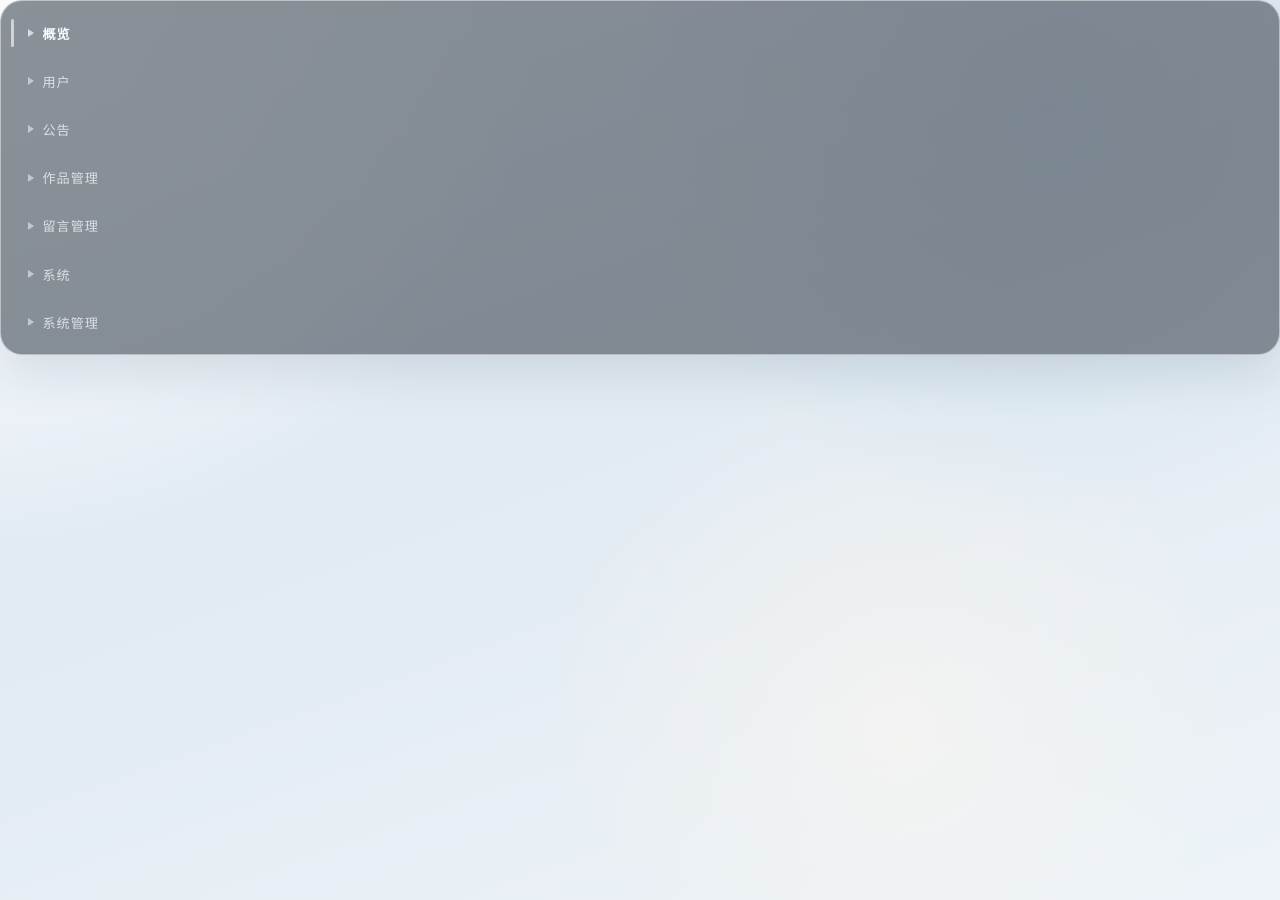
Test: AppSidebar 分组折叠 › 单项组同样可以折叠（概览 / 公告 / 留言管理）
The image size is (1280, 900).
Click the button with class "app-sidebar__group-toggle" showing "公告".
click(31, 129)  # box [17, 113, 1253, 146]
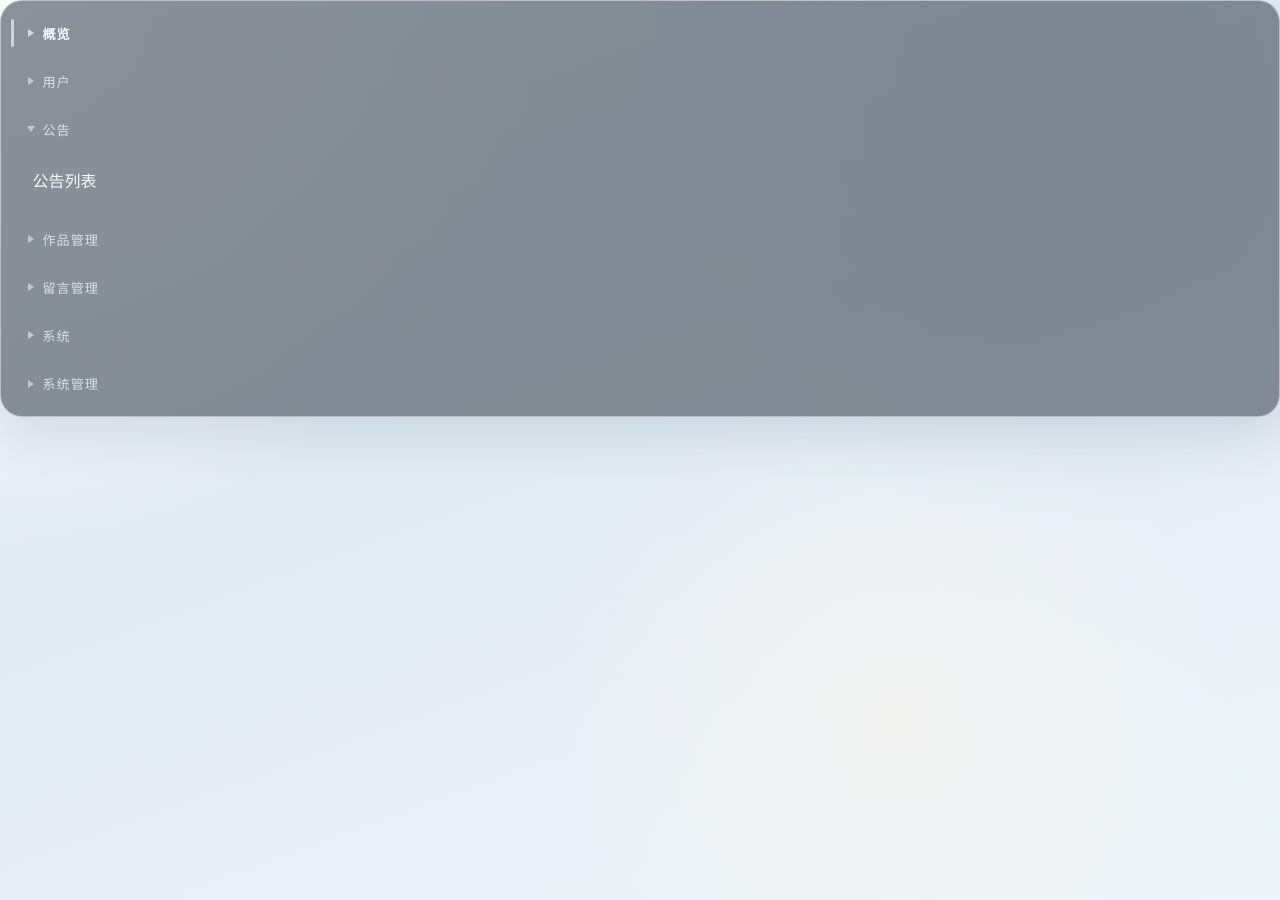
expect the button with class "app-sidebar__link" reads "公告列表": met, box [17, 153, 1253, 207]
Click the button with class "app-sidebar__group-toggle" showing "公告".
click(31, 129)  # box [17, 113, 1253, 146]
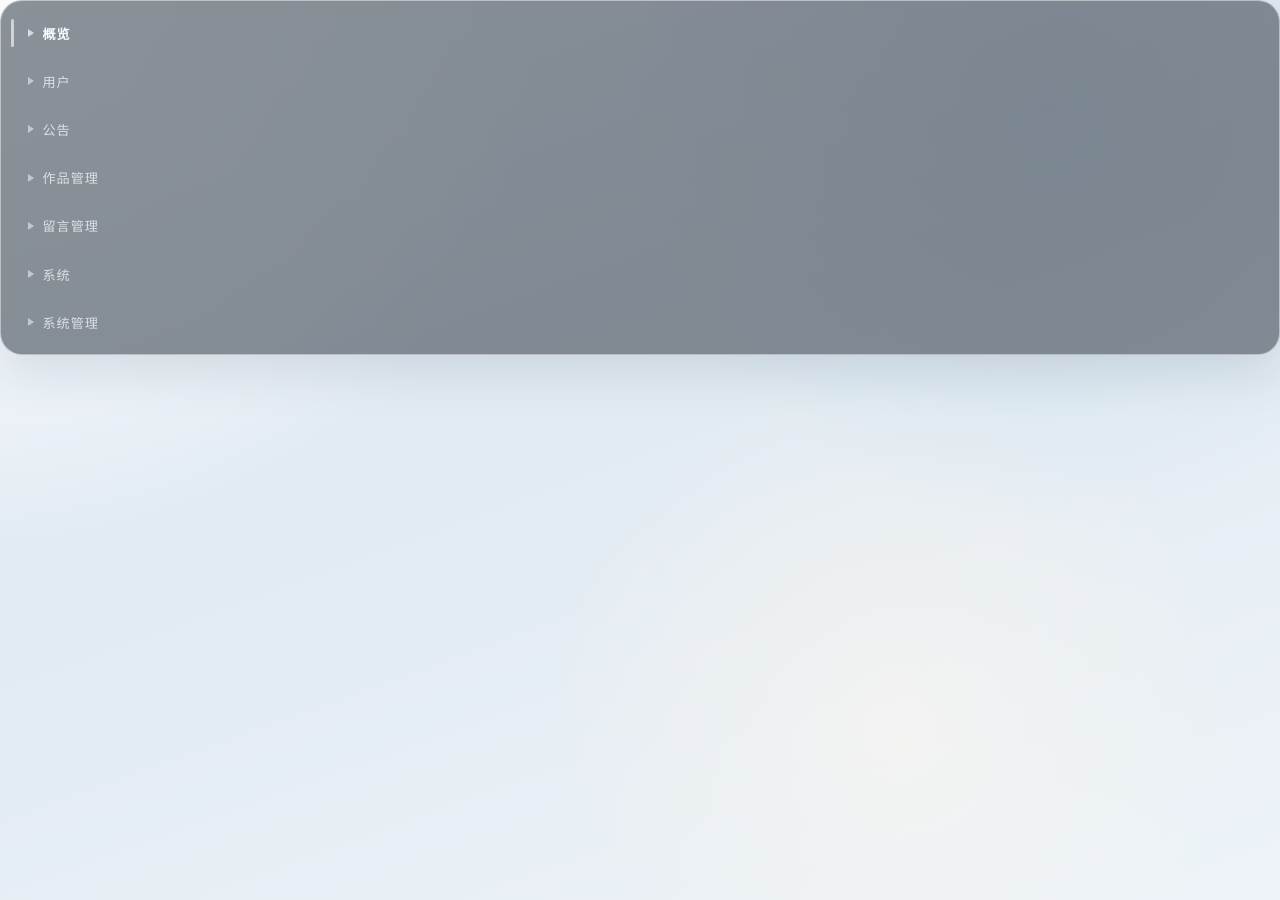
expect no buttons with class "app-sidebar__link" are shown: met
